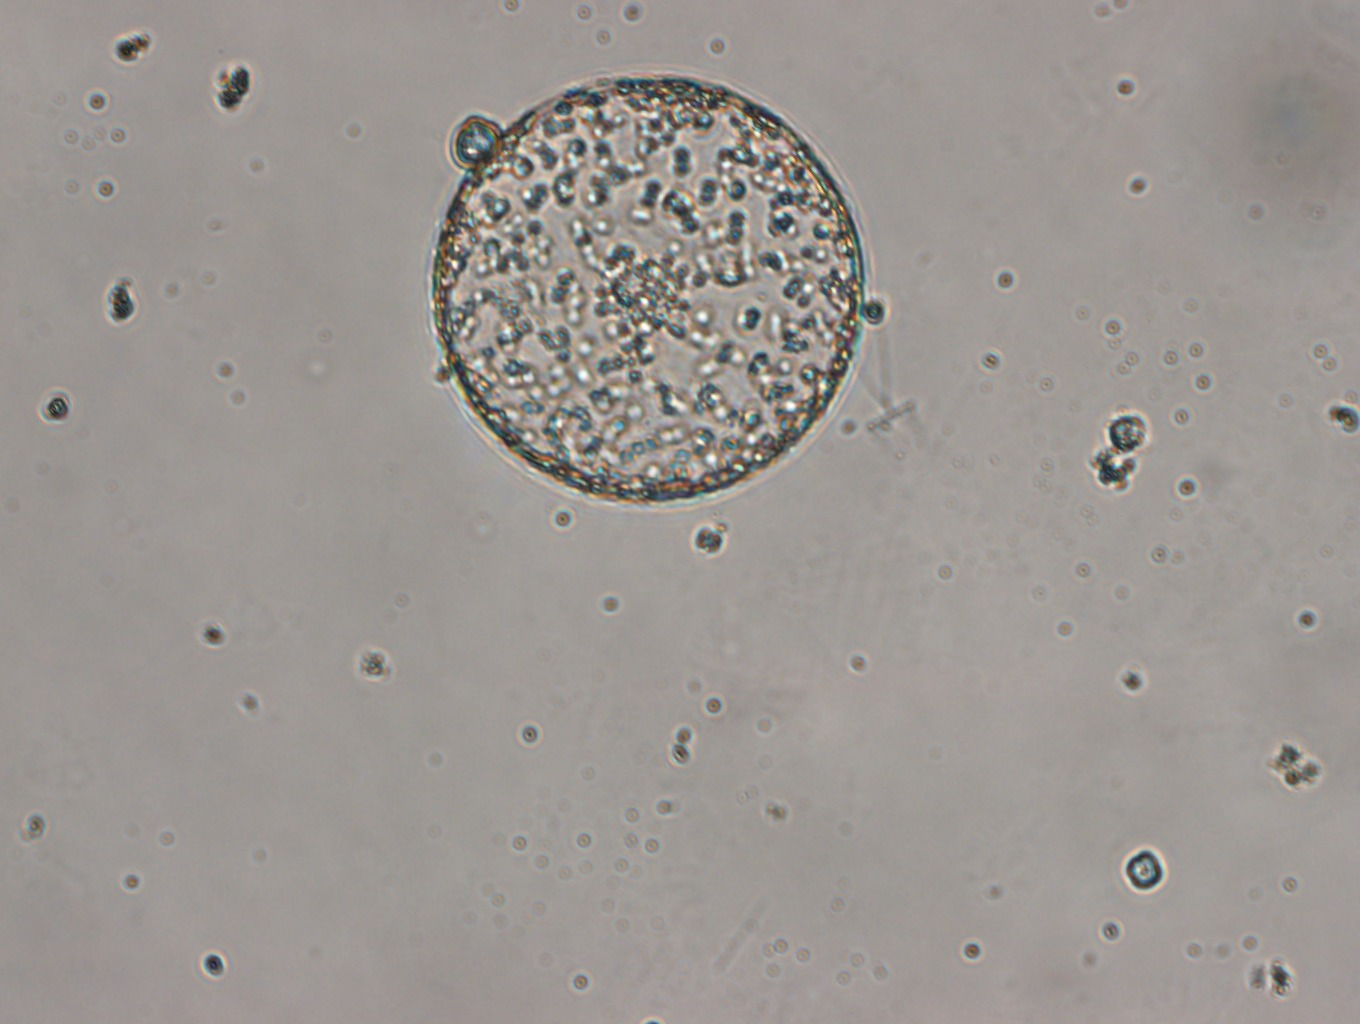coscinodiscus: (427, 70, 868, 508)
